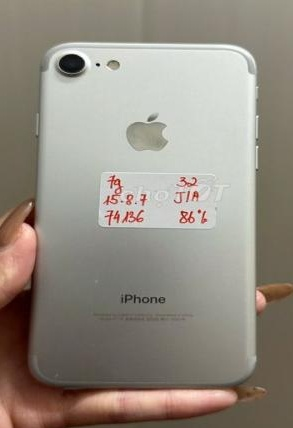scratch: (90, 271, 105, 288), (51, 369, 65, 380)
